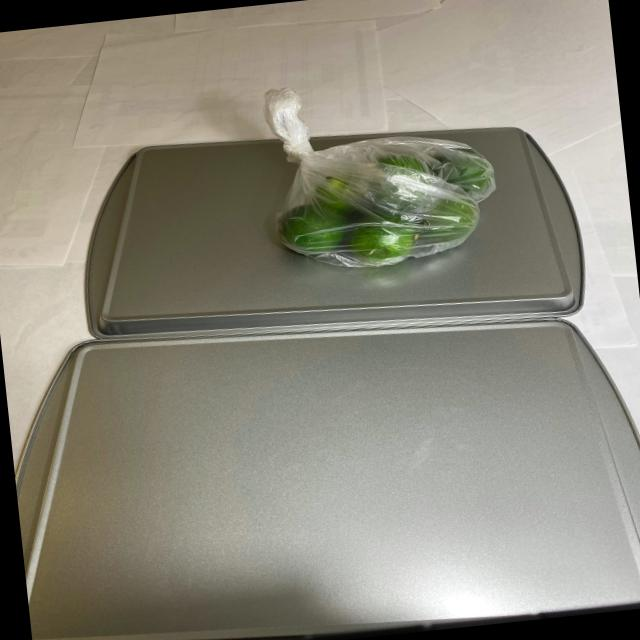lemon: (265, 136, 501, 278)
